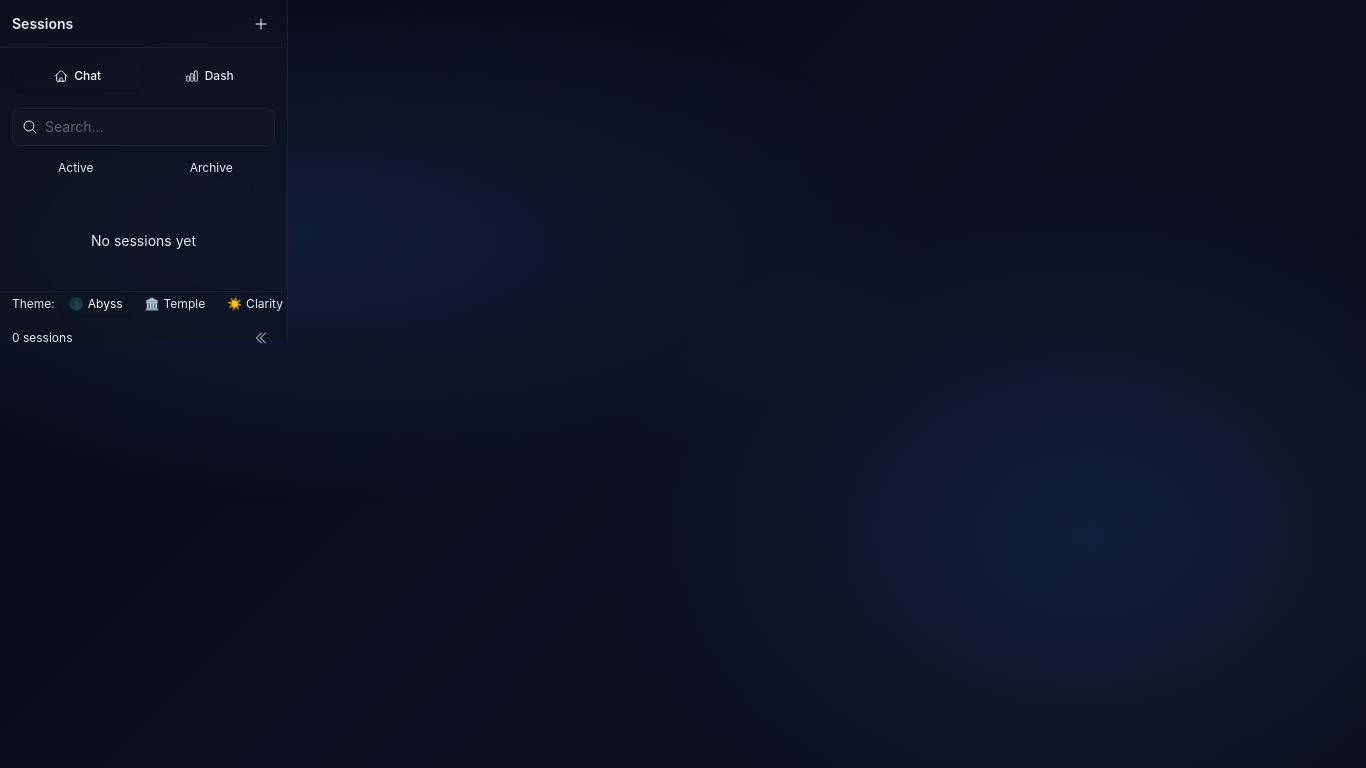
Test: Sidebar › archived session visibility › shows archived sessions in Archive view
Click the button "Archive" at (211, 168), box [148, 154, 275, 182]
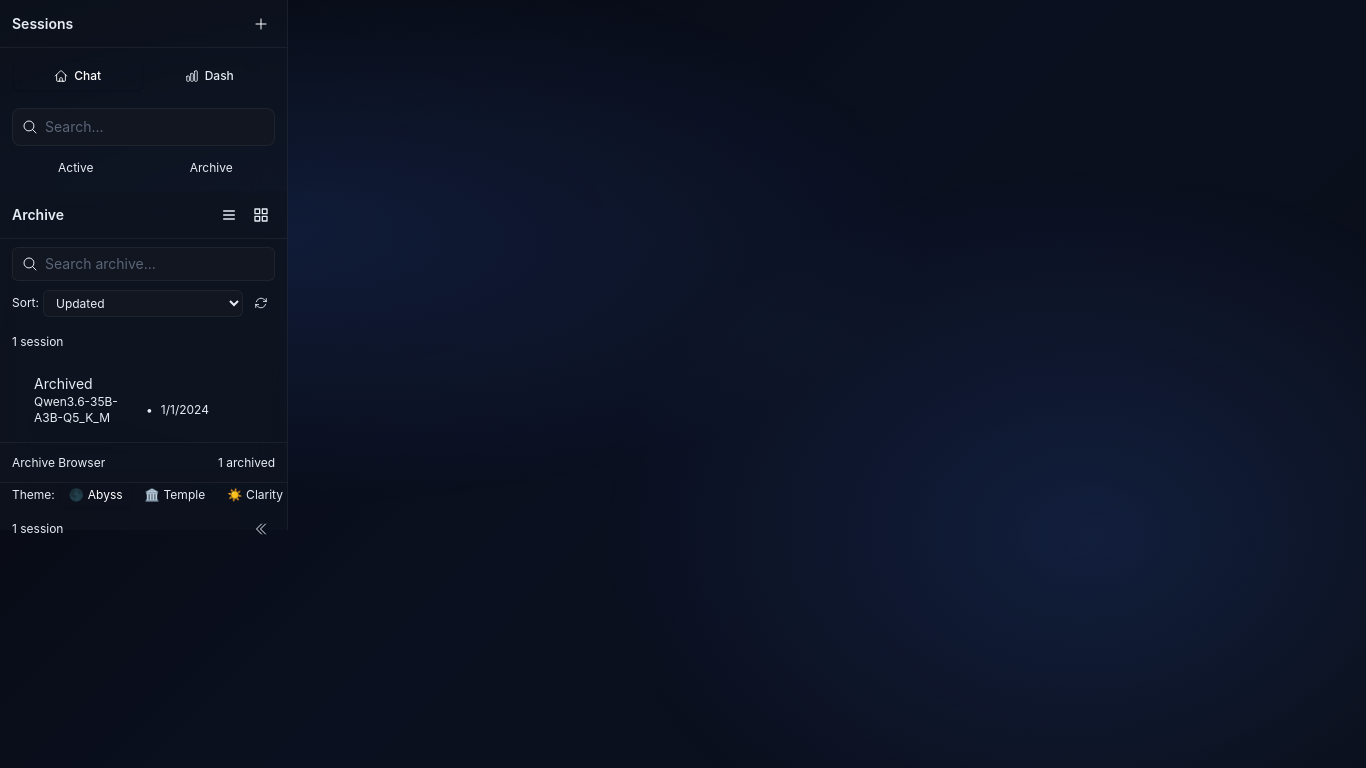
Now the text "Archived" is shown, box [34, 375, 93, 392]
